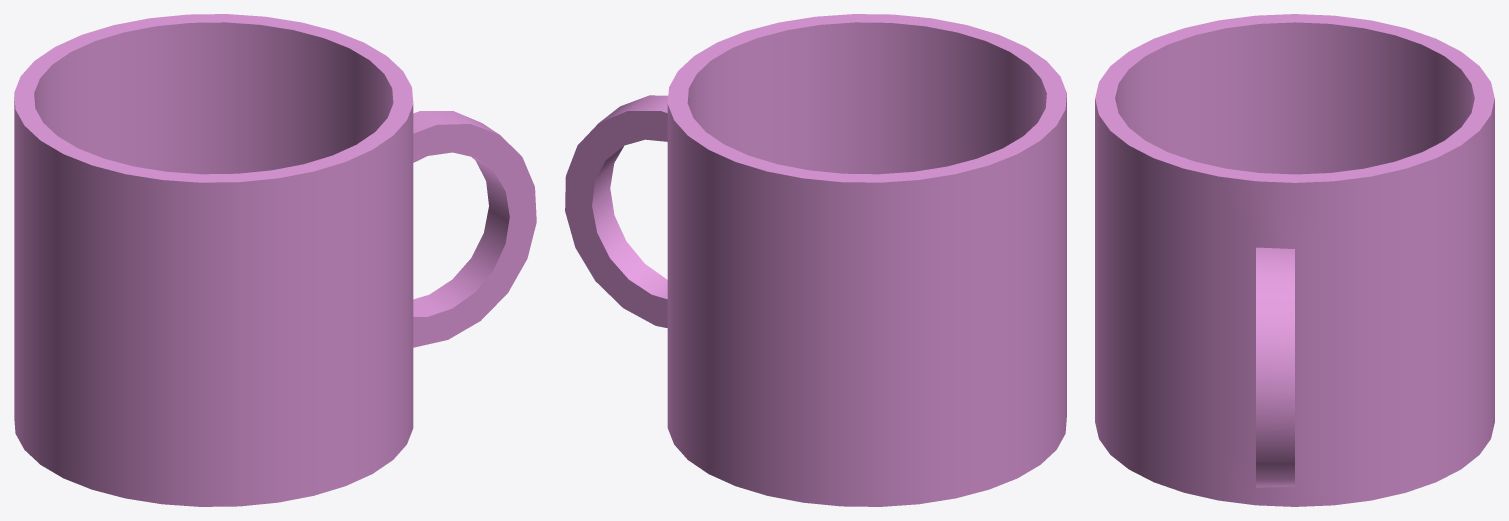
File: Cup.fbx
The picture shows the model from 3 angles, left to right: view 1: azimuth 30°, elevation 25°; view 2: azimuth 150°, elevation 25°; view 3: azimuth 270°, elevation 25°; orthographic projection.
Visible parts, largest first — view 1: Cup; view 2: Cup; view 3: Cup.
Boxes of the visible parts, x1,y1,x2,y2 form: Cup: (14, 14, 536, 506); Cup: (565, 14, 1066, 506); Cup: (1095, 14, 1494, 506).
Size of the model in its own units: 25.28 by 16.43 by 18.37.
